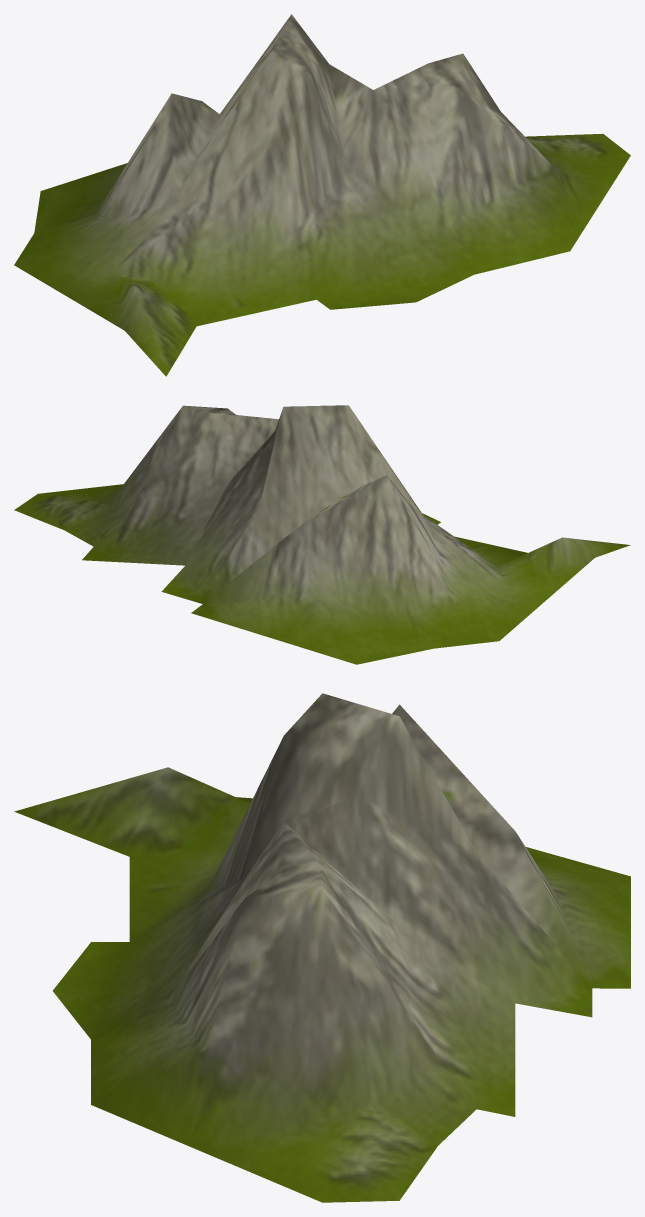
File: Terrain_06.fbx
3 views of the same model, one above another, from view 1: azimuth 30°, elevation 25°; view 2: azimuth 150°, elevation 25°; view 3: azimuth 270°, elevation 25° (orthographic). The views are drawn at different scales.
Parts seen in each view (by area): view 1: Terrain_06; view 2: Terrain_06; view 3: Terrain_06.
Part boxes in pixels (left/top/right/bottom): Terrain_06: left=14, top=14, right=630, bottom=376; Terrain_06: left=14, top=405, right=630, bottom=664; Terrain_06: left=14, top=693, right=630, bottom=1202.
Bounding box in the file's own units: 19.39 × 6.35 × 12.93.
